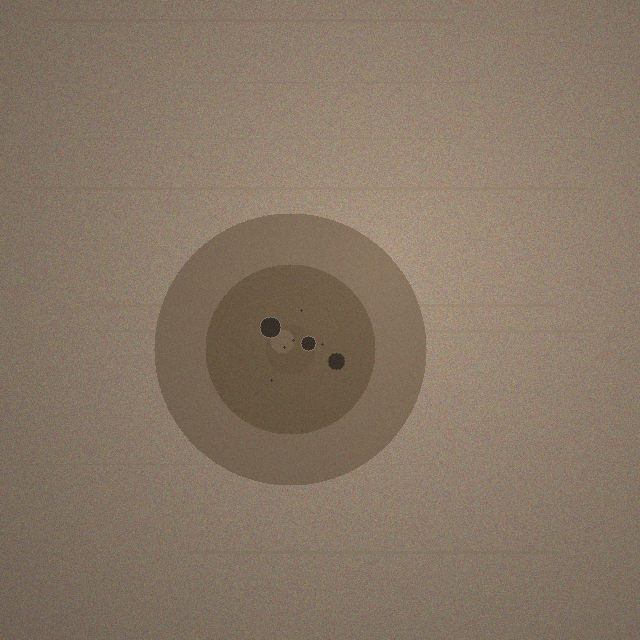shrinkage: (154, 213, 426, 485)
